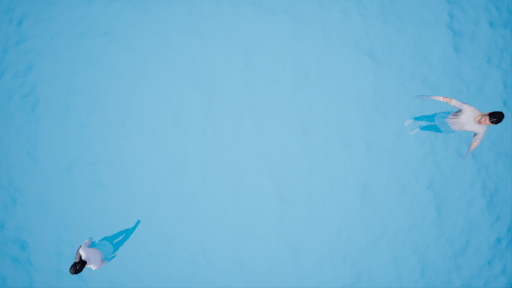person: (403, 84, 506, 153), (65, 219, 144, 275)
